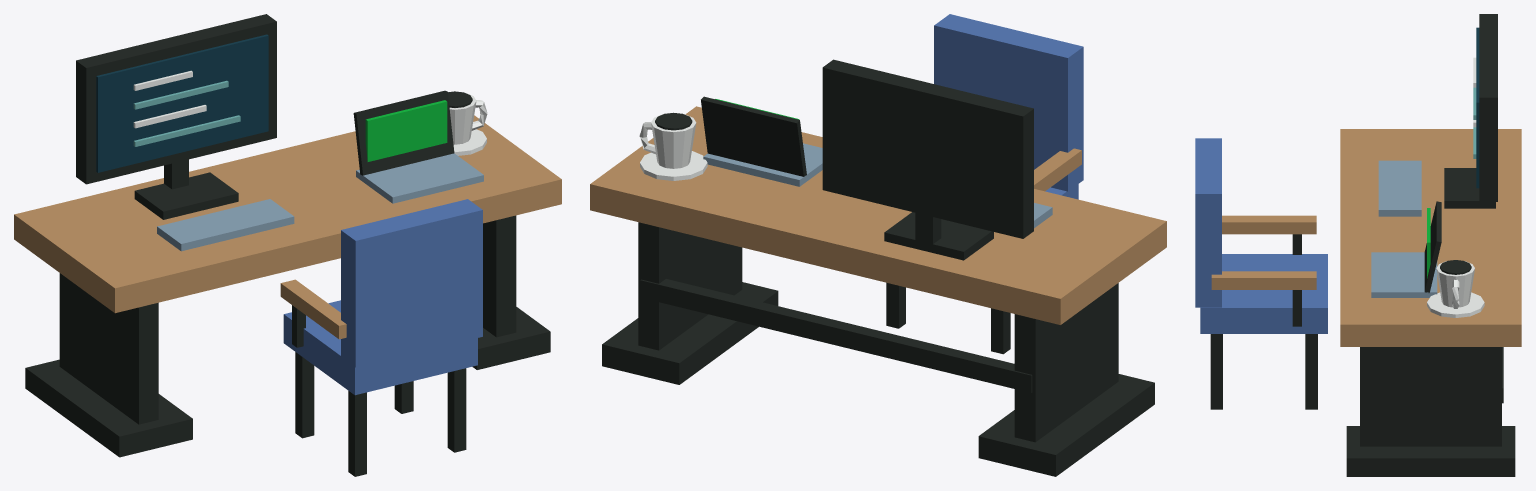
File: gh_workstation_v01.glb
The picture shows the model from 3 angles, left to right: view 1: azimuth 30°, elevation 25°; view 2: azimuth 150°, elevation 25°; view 3: azimuth 270°, elevation 25°; orthographic projection. The views are drawn at different scales.
Parts seen in each view (by area): view 1: Oak workstation and upholstered task chair; view 2: Oak workstation and upholstered task chair; view 3: Oak workstation and upholstered task chair.
Boxes of the visible parts, box(x1,y1,x2,y2) form: Oak workstation and upholstered task chair: box(14, 14, 561, 476); Oak workstation and upholstered task chair: box(590, 14, 1166, 476); Oak workstation and upholstered task chair: box(1195, 14, 1521, 476).
Size of the model in its own units: 2.25 by 1.58 by 1.58.
1 material, 1 textured.
